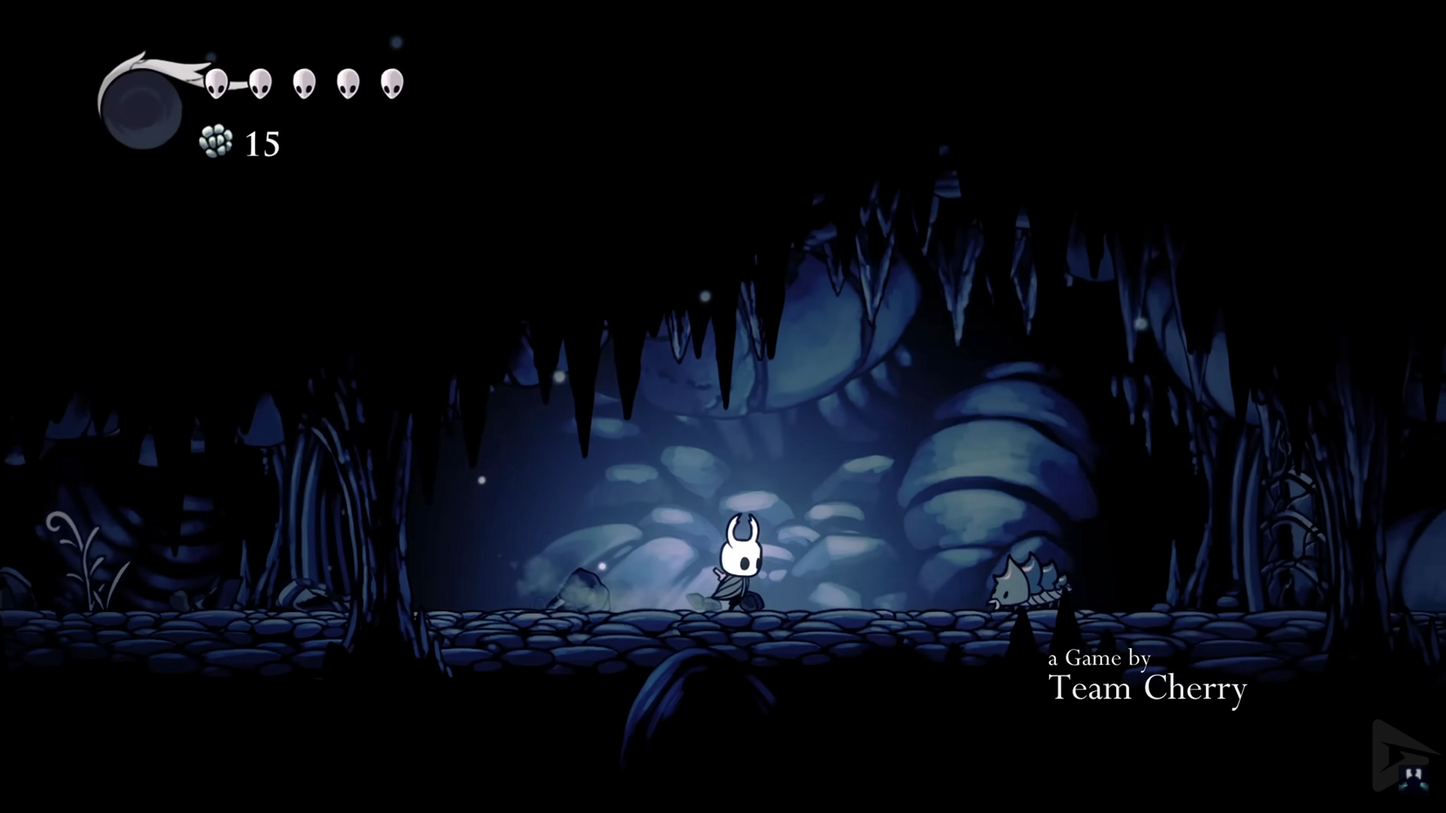HK: (707, 510, 768, 617)
